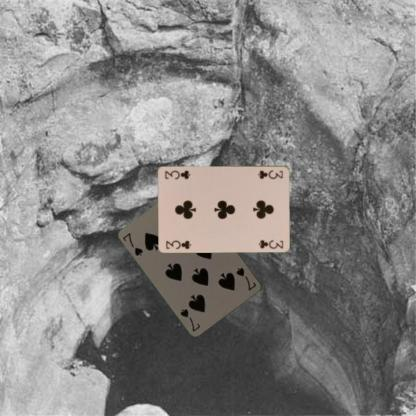3c: (255, 168, 284, 180), (164, 238, 192, 250)
7s: (233, 265, 258, 292), (120, 230, 144, 258)
